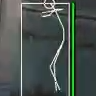hacks_1: (20, 1, 75, 96)
